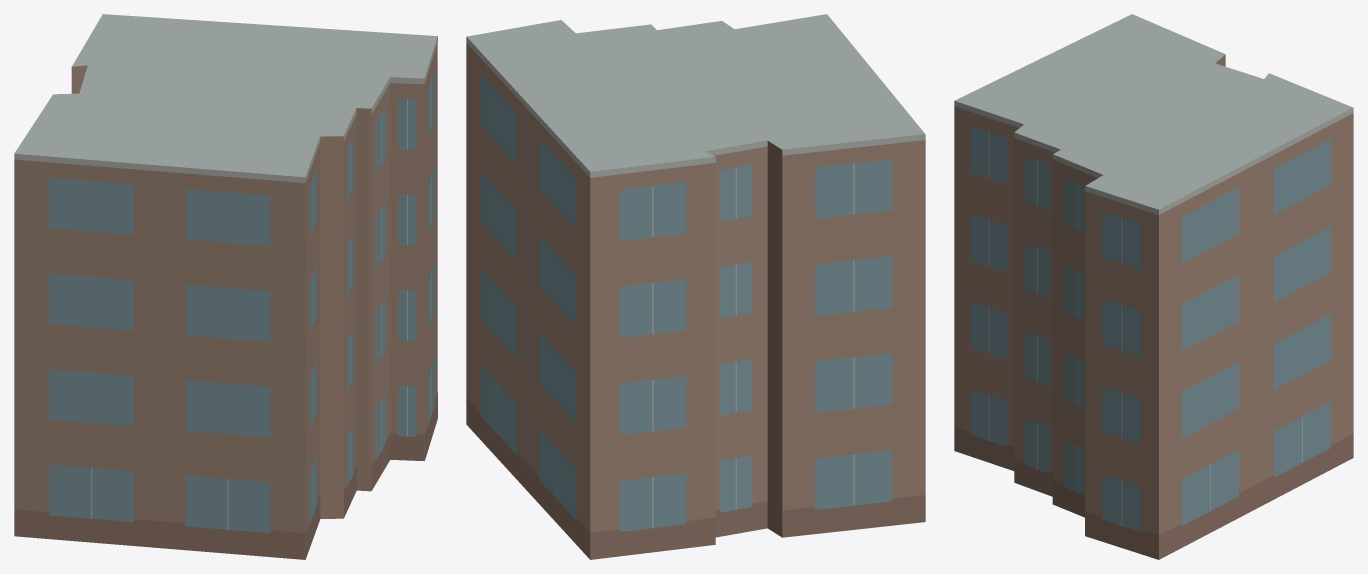
Rendered from survey-upis-32783963.glb.
The picture shows the model from 3 angles, left to right: view 1: azimuth 30°, elevation 25°; view 2: azimuth 150°, elevation 25°; view 3: azimuth 270°, elevation 25°; orthographic projection. The views are drawn at different scales.
Visible parts, largest first — view 1: survey-upis-32783963.tmp; view 2: survey-upis-32783963.tmp; view 3: survey-upis-32783963.tmp.
Boxes of the visible parts, bbox=[...] form: survey-upis-32783963.tmp: bbox=[14, 14, 437, 559]; survey-upis-32783963.tmp: bbox=[466, 14, 925, 559]; survey-upis-32783963.tmp: bbox=[954, 14, 1353, 559].
Bounding box in the file's own units: 19.19 × 16 × 16.54.
